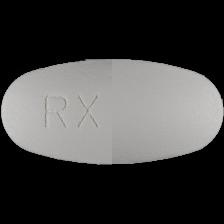61786-283: (0, 0, 224, 224)
